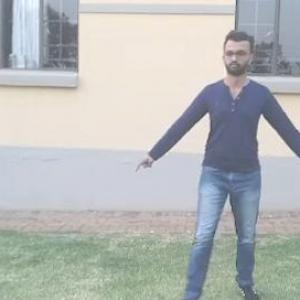land: (150, 33, 299, 297)
